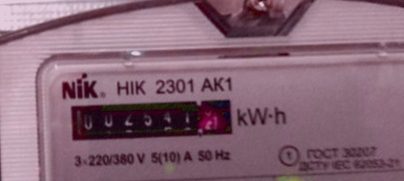0: (79, 109, 93, 130), (100, 106, 113, 128)
1: (179, 105, 191, 125)
2: (120, 107, 133, 127)
4: (160, 104, 173, 126)
5: (139, 105, 152, 127)
6: (201, 116, 213, 131)
screen: (59, 89, 242, 149)
